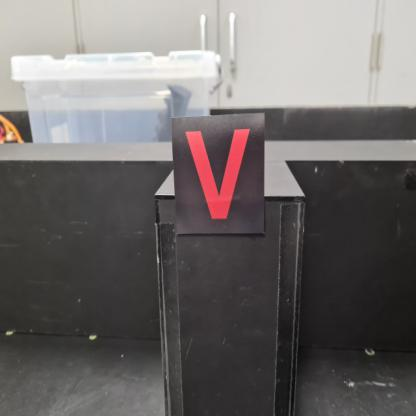v: (168, 112, 266, 236)
